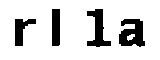1: (80, 5, 113, 53)
a: (118, 15, 148, 53)
l: (49, 6, 73, 52)
r: (13, 16, 39, 50)
